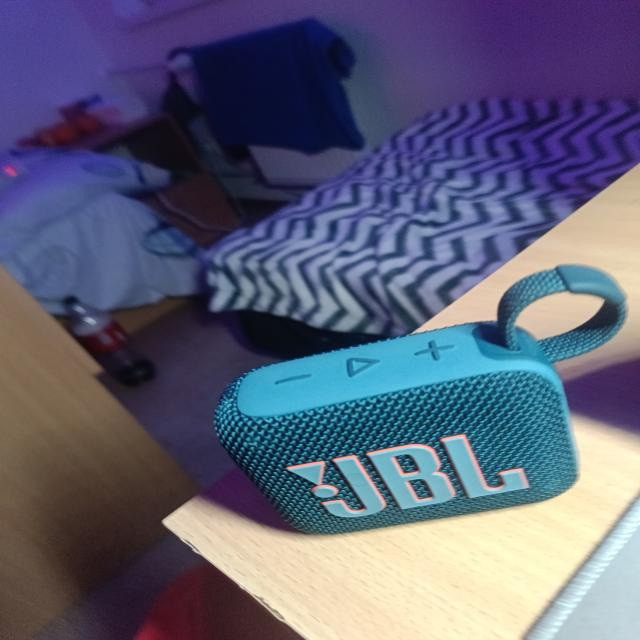column JBL: (203, 265, 628, 539)
